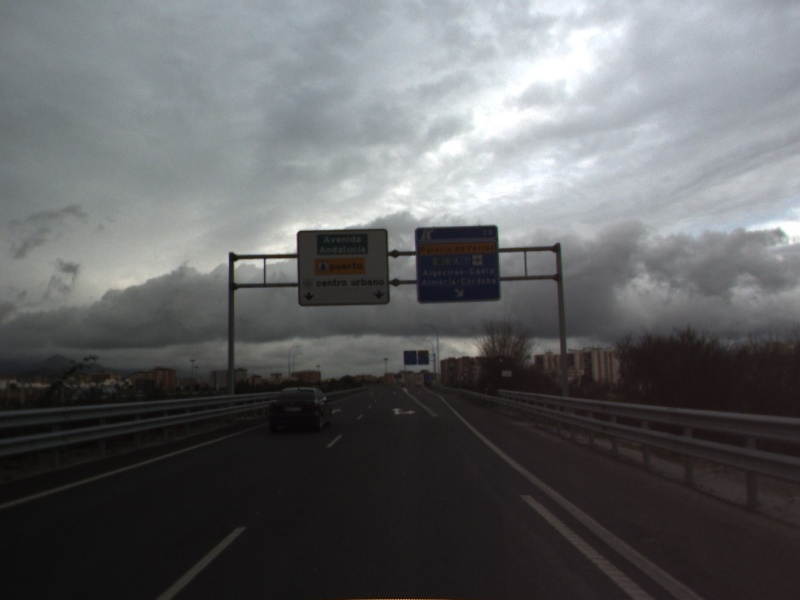STRAIGHT_RIGHT: (389, 406, 419, 417)
